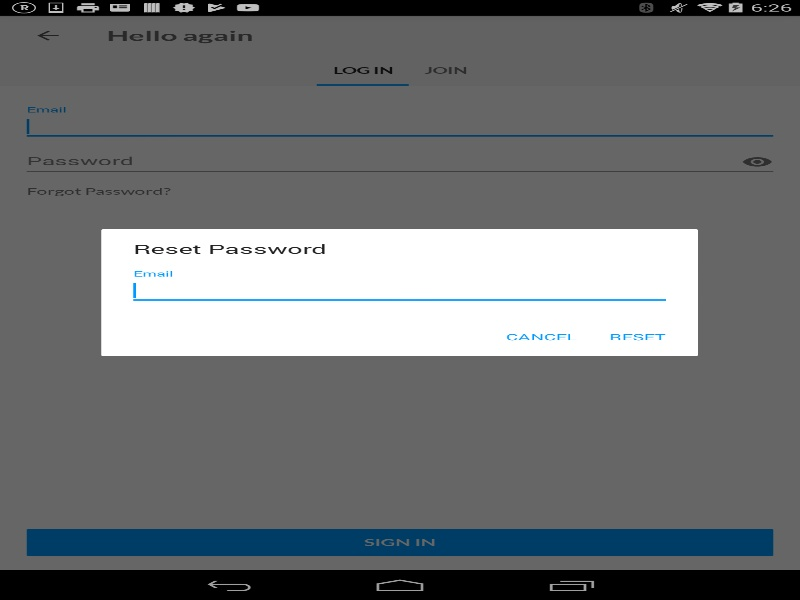Button: (490, 320, 592, 353), (592, 320, 682, 353)
Input: (128, 276, 671, 305)
